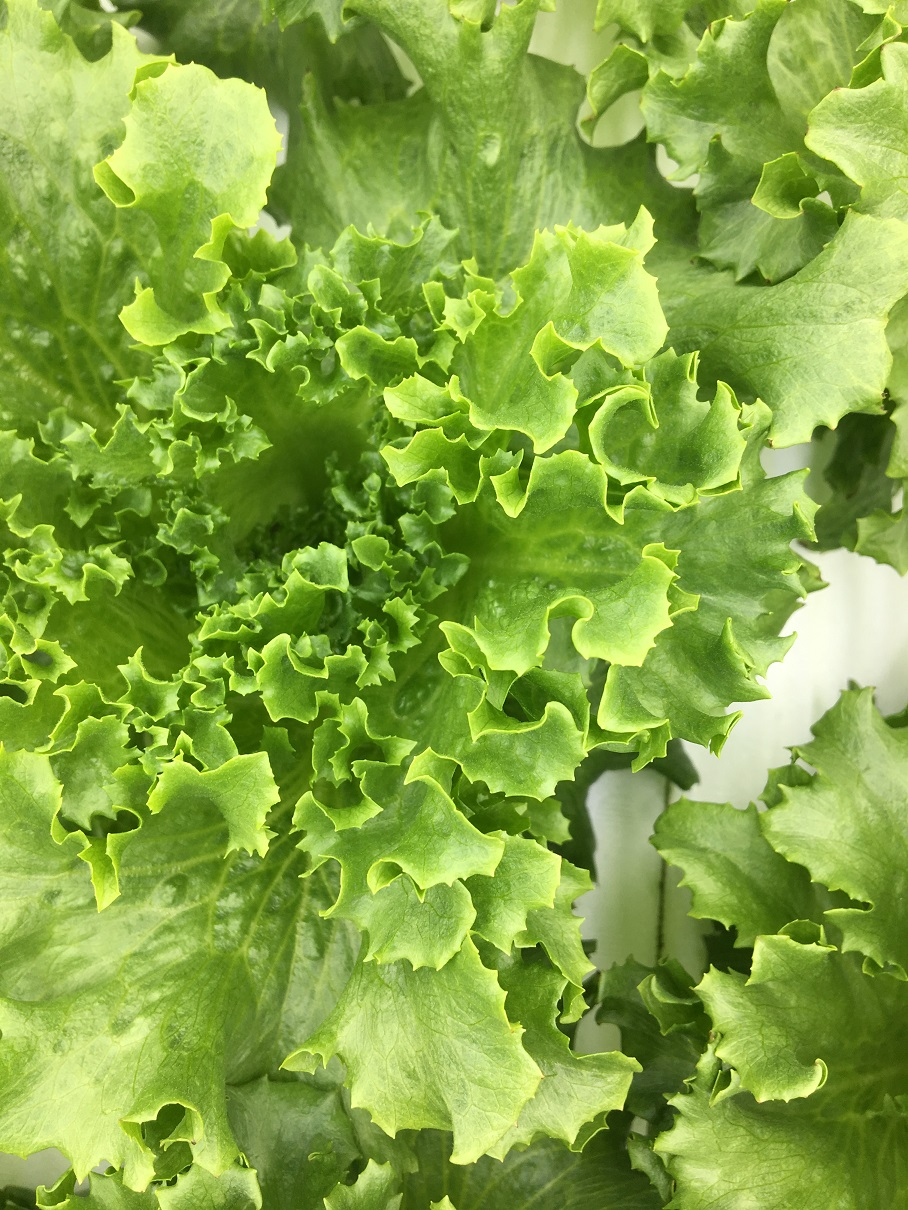tipburn: (172, 1123, 213, 1163), (750, 422, 789, 461), (691, 7, 727, 44), (789, 111, 823, 144), (826, 72, 858, 106), (700, 1018, 734, 1049), (295, 55, 325, 85), (614, 35, 634, 58)
